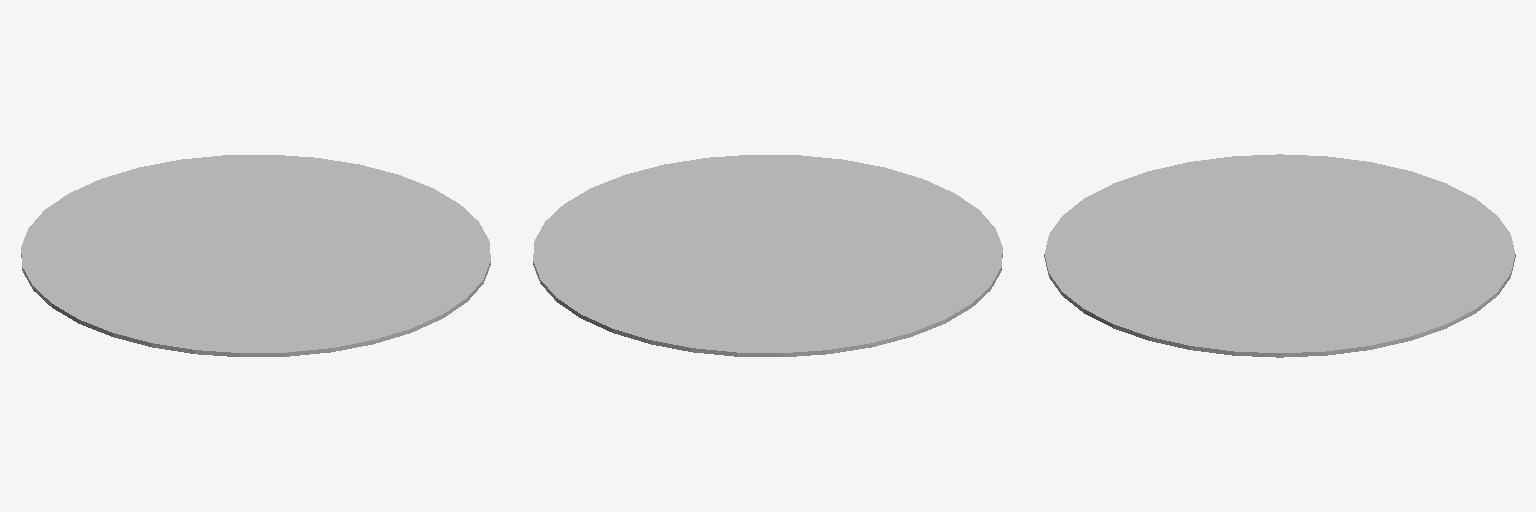
The model's file is disk.obj.
3 renders of one model, left to right at view 1: azimuth 30°, elevation 25°; view 2: azimuth 150°, elevation 25°; view 3: azimuth 270°, elevation 25°, orthographic.
Parts seen in each view (by area): view 1: Cylinder; view 2: Cylinder; view 3: Cylinder.
Boxes of the visible parts, box(x1,y1,x2,y2) form: Cylinder: box(21, 155, 490, 356); Cylinder: box(533, 155, 1002, 356); Cylinder: box(1044, 154, 1515, 357).
Size of the model in its own units: 1 by 0.01 by 1.